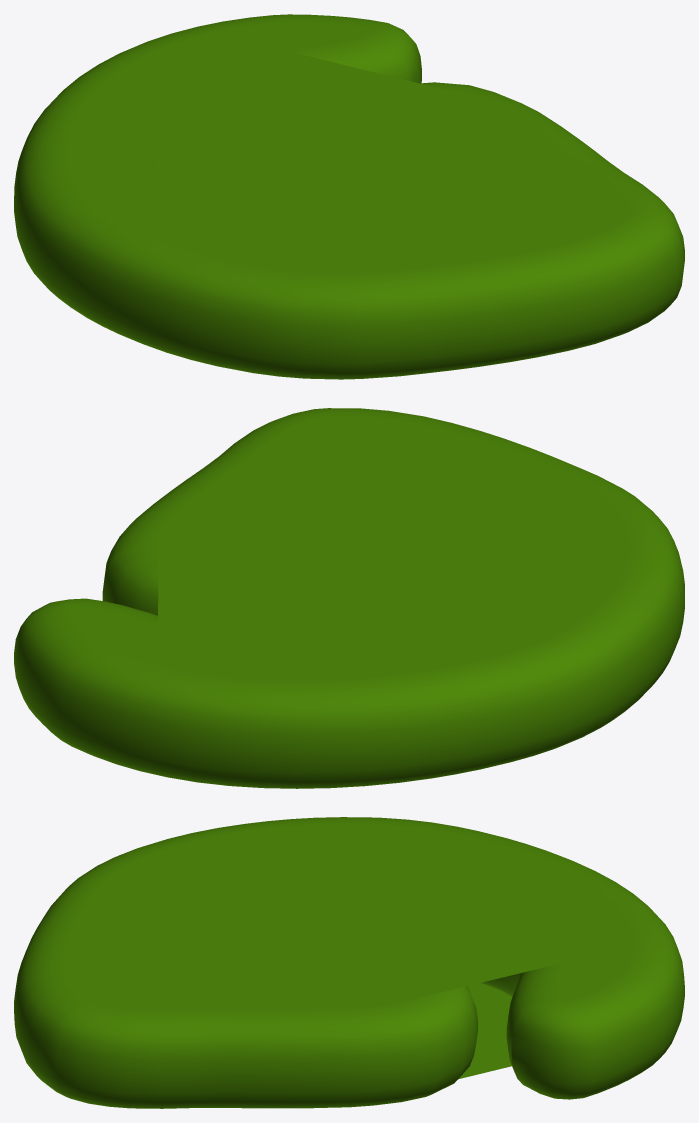
3 views of the same model, one above another, from view 1: azimuth 30°, elevation 25°; view 2: azimuth 150°, elevation 25°; view 3: azimuth 270°, elevation 25° (orthographic). The views are drawn at different scales.
Parts seen in each view (by area): view 1: Curve.008; view 2: Curve.008; view 3: Curve.008.
Boxes of the visible parts, <box> form: Curve.008: <box>14,14,684,379</box>; Curve.008: <box>14,408,684,788</box>; Curve.008: <box>14,817,684,1108</box>.
Size of the model in its own units: 266 by 49.54 by 331.
1 material, 1 textured.
